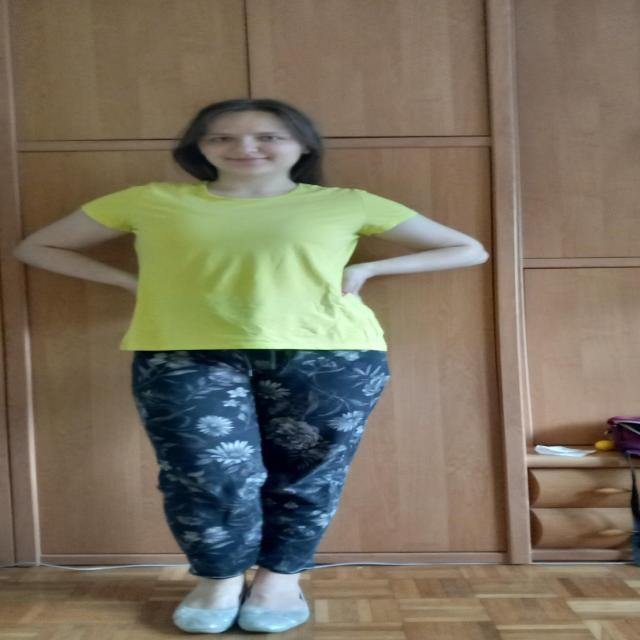Tshirt: (78, 181, 421, 352)
pants: (130, 350, 390, 580)
